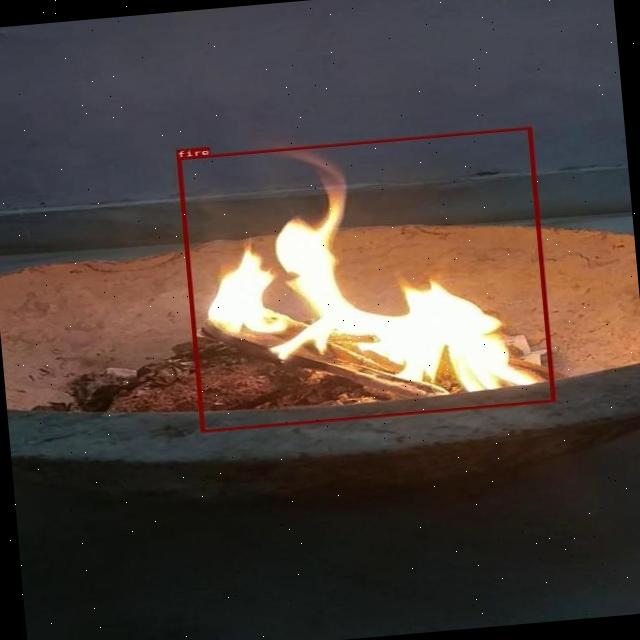fire: (175, 126, 554, 432)
